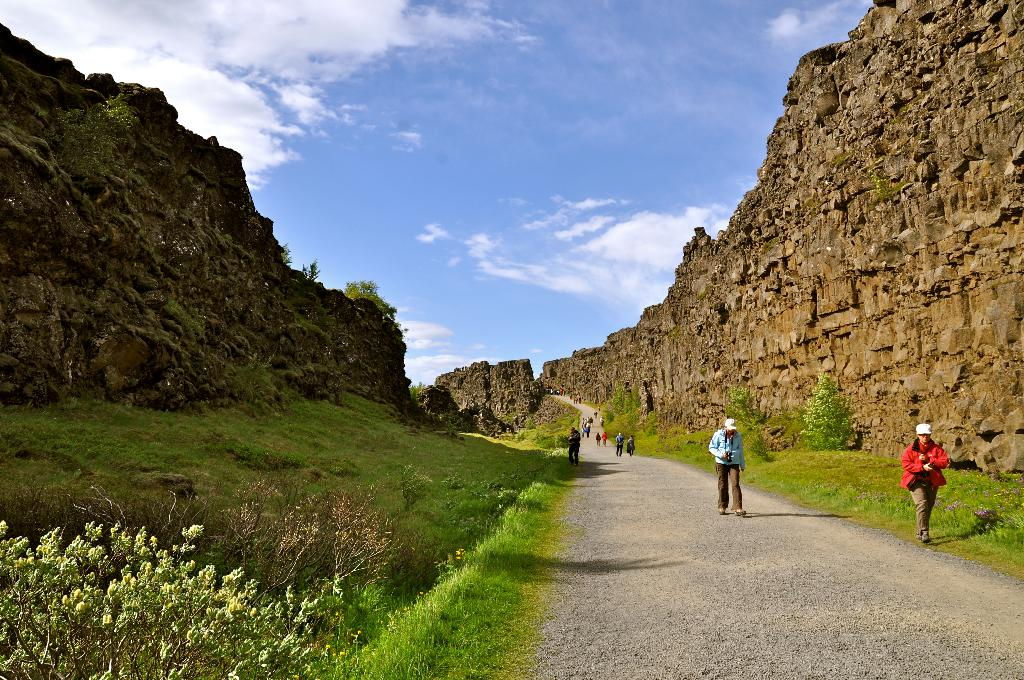Tree: (291, 246, 389, 306)
